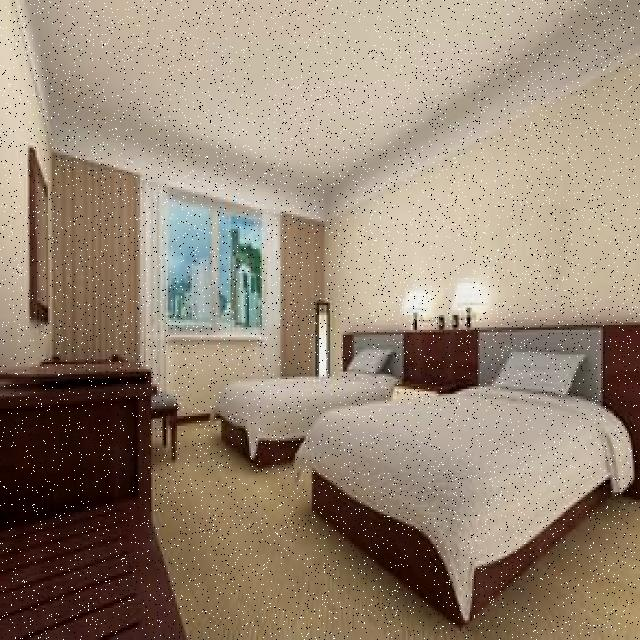bed: (307, 327, 629, 612), (216, 331, 401, 460)
